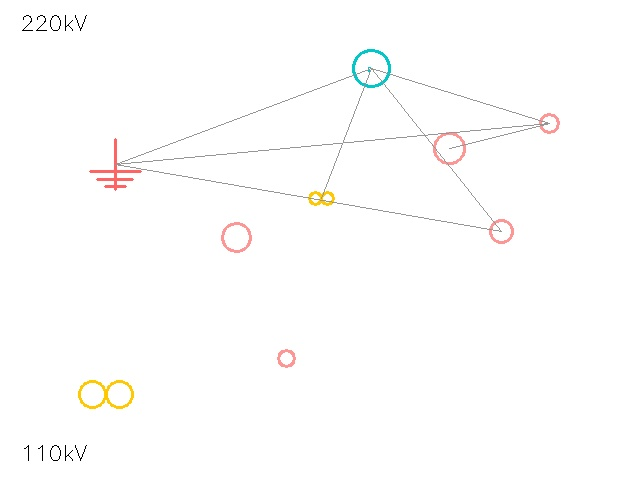current_transformer: (419, 118, 479, 178), (531, 105, 567, 141)
fuse: (269, 341, 303, 375)
generator: (353, 50, 389, 86)
ground: (90, 139, 140, 189)
reactor: (208, 209, 264, 265), (479, 209, 523, 253)
transformer_2w: (73, 361, 139, 427), (306, 183, 336, 213)
